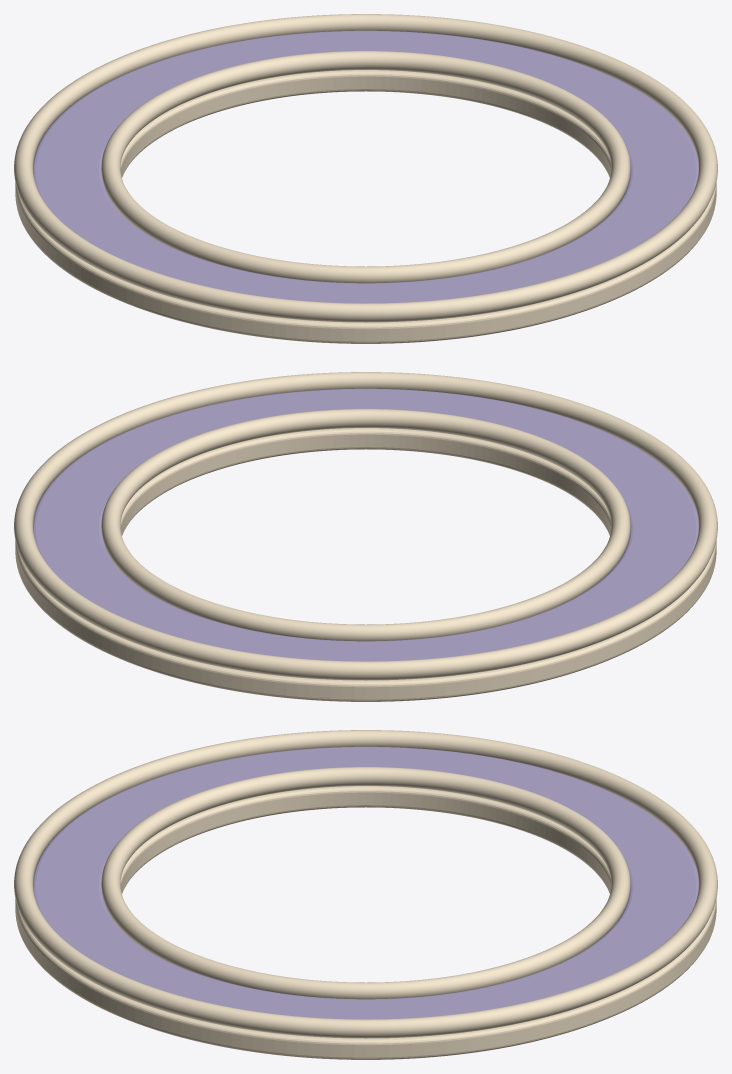
File: RingMiddle.fbx
The picture shows the model from 3 angles, top to bottom: view 1: azimuth 30°, elevation 25°; view 2: azimuth 150°, elevation 25°; view 3: azimuth 270°, elevation 25°; orthographic projection.
Parts seen in each view (by area): view 1: Middle Ring Lavender Trough, Middle Ring Outer Rail, Middle Ring Ivory Base, Middle Ring Inner Rail; view 2: Middle Ring Lavender Trough, Middle Ring Outer Rail, Middle Ring Ivory Base, Middle Ring Inner Rail; view 3: Middle Ring Lavender Trough, Middle Ring Outer Rail, Middle Ring Ivory Base, Middle Ring Inner Rail.
Part boxes in pixels (x1,y1,x2,y2): Middle Ring Lavender Trough: [33, 30, 698, 303]; Middle Ring Outer Rail: [14, 14, 717, 322]; Middle Ring Ivory Base: [15, 70, 716, 343]; Middle Ring Inner Rail: [101, 51, 630, 283]; Middle Ring Lavender Trough: [33, 388, 698, 661]; Middle Ring Outer Rail: [14, 372, 717, 680]; Middle Ring Ivory Base: [15, 428, 716, 701]; Middle Ring Inner Rail: [101, 409, 630, 641]; Middle Ring Lavender Trough: [33, 746, 698, 1019]; Middle Ring Outer Rail: [14, 730, 717, 1038]; Middle Ring Ivory Base: [15, 786, 716, 1059]; Middle Ring Inner Rail: [101, 767, 630, 999].
Size of the model in its own units: 7.73 by 0.455 by 7.73.
